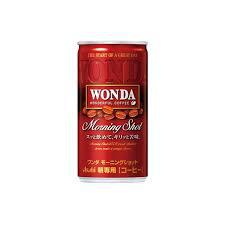beer: (75, 38, 150, 182)
